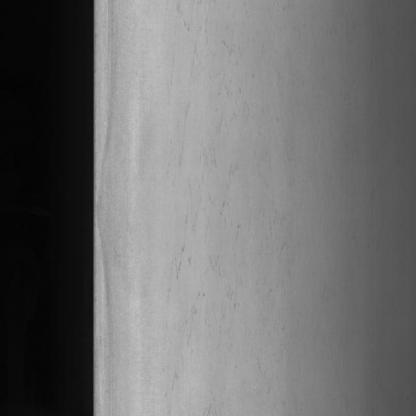silk_spot: (168, 0, 281, 350)
